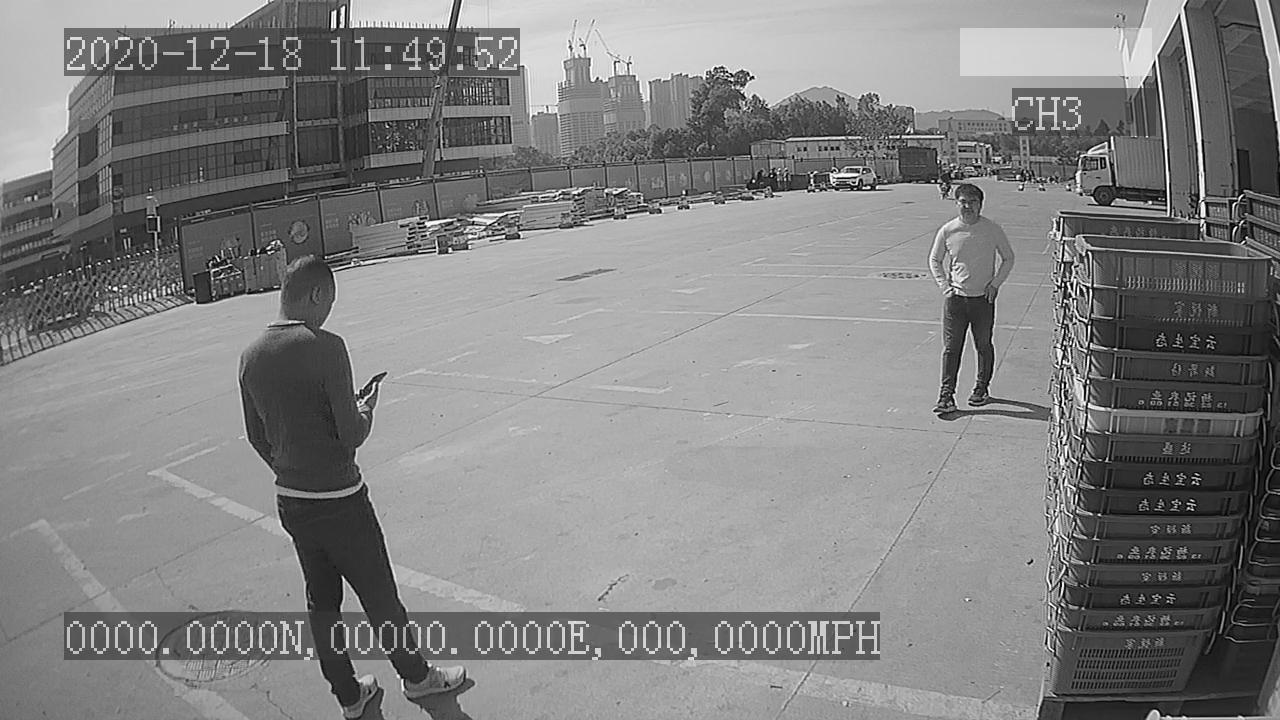person: (922, 183, 1018, 417)
